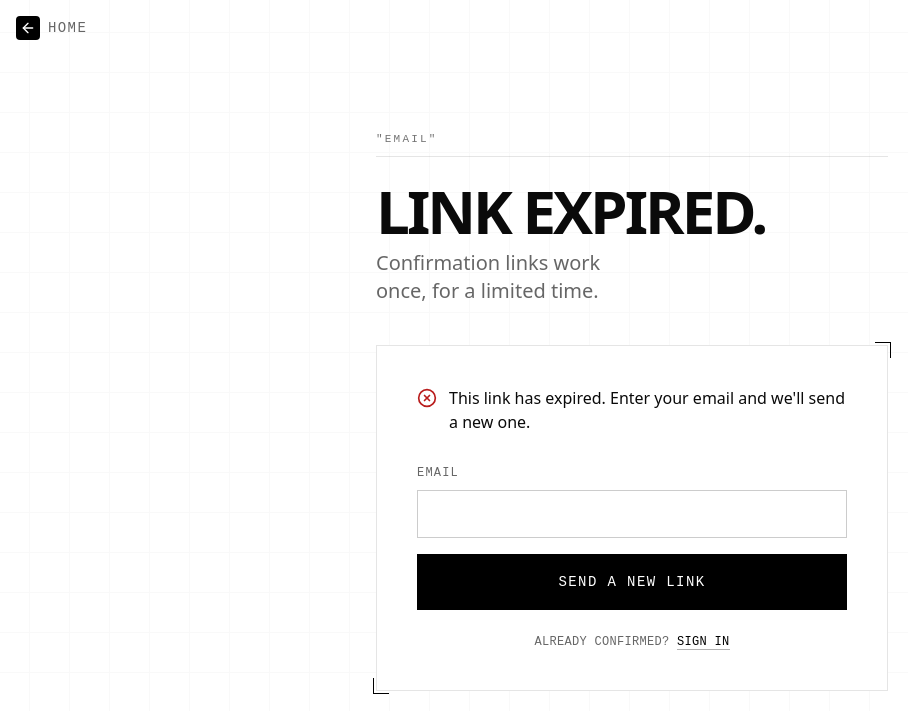
email confirmation page › offers a new link when the old one expired
Expected: the message shows "expired", [449,386,606,408]
Step 1. Type "ravi@example.com" into the field labelled "Email" → (632, 514), box [417,490,847,538]
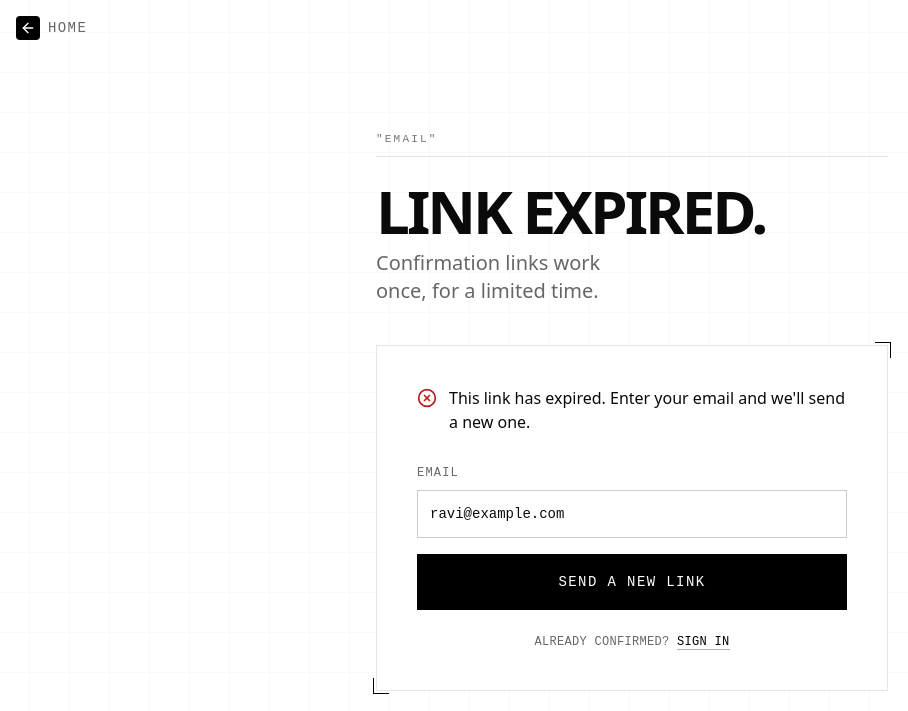
Step 2. Click the button "Send a new link" → (632, 582), box [417,554,847,610]
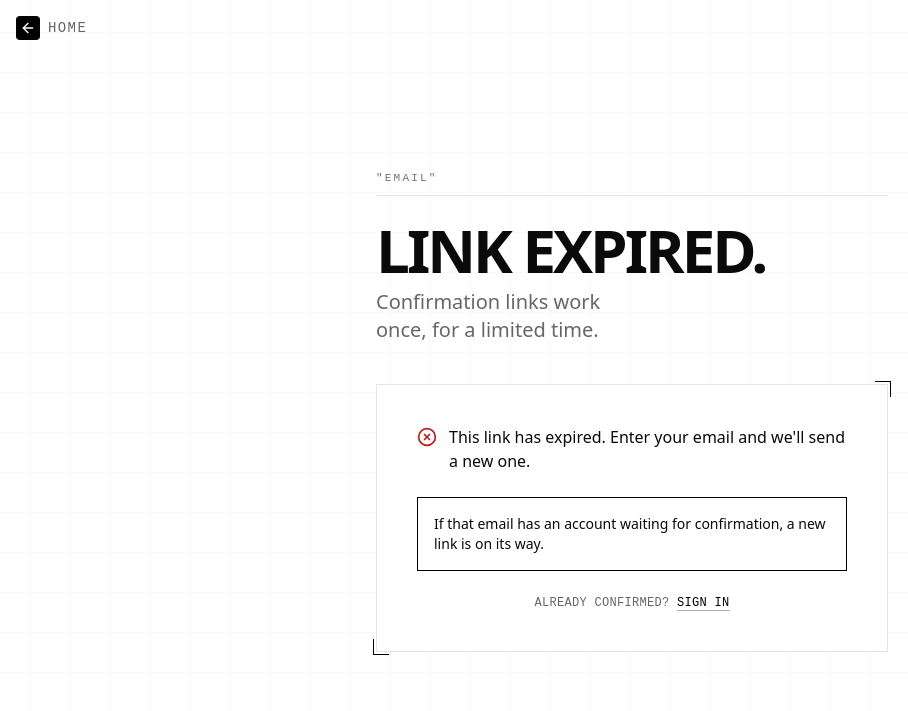
Expected: the text "new link is on its way" is shown, [434,514,826,552]
